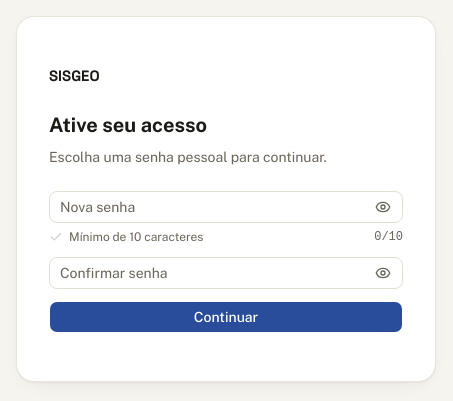
Test: AccountActionForm › botão de mostrar senha continua lá depois de sair do campo
Step 1. Type "segredo-123" into the password field with placeholder "Nova senha" → (226, 207), box [49,191,403,223]
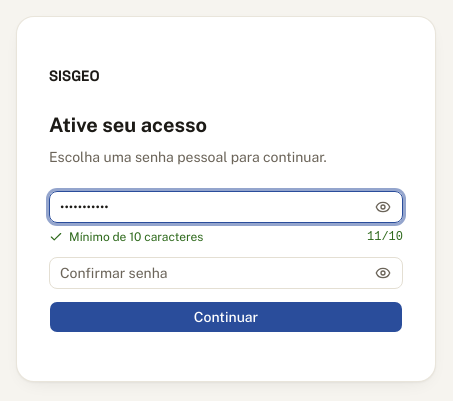
Step 2. Press Tab
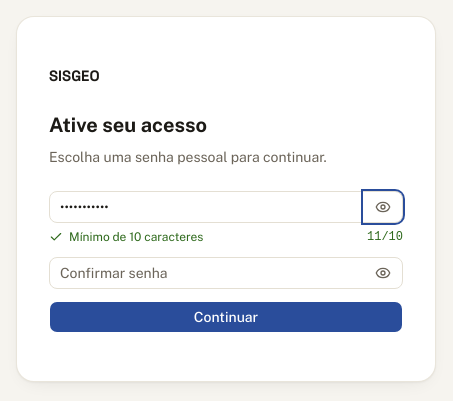
Step 3. Click the 1st button named "Mostrar senha" → (383, 207), box [363,191,403,223]
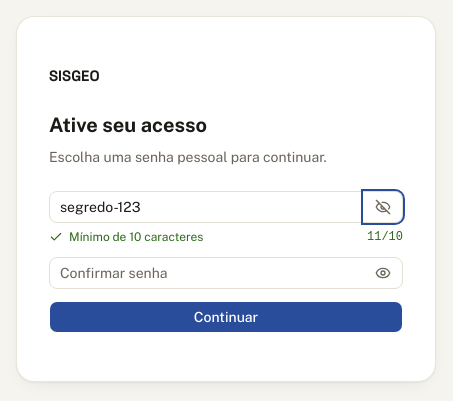
Expected: the number of buttons named "Ocultar senha" is 1, [363,191,403,223]
Now the field with placeholder "Nova senha" shows its text, box [49,191,403,223]
